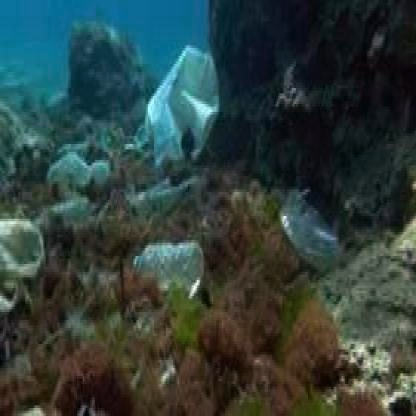pbottle: (24, 173, 108, 243), (135, 226, 201, 290)
plastic: (139, 43, 218, 157), (280, 208, 349, 293)
